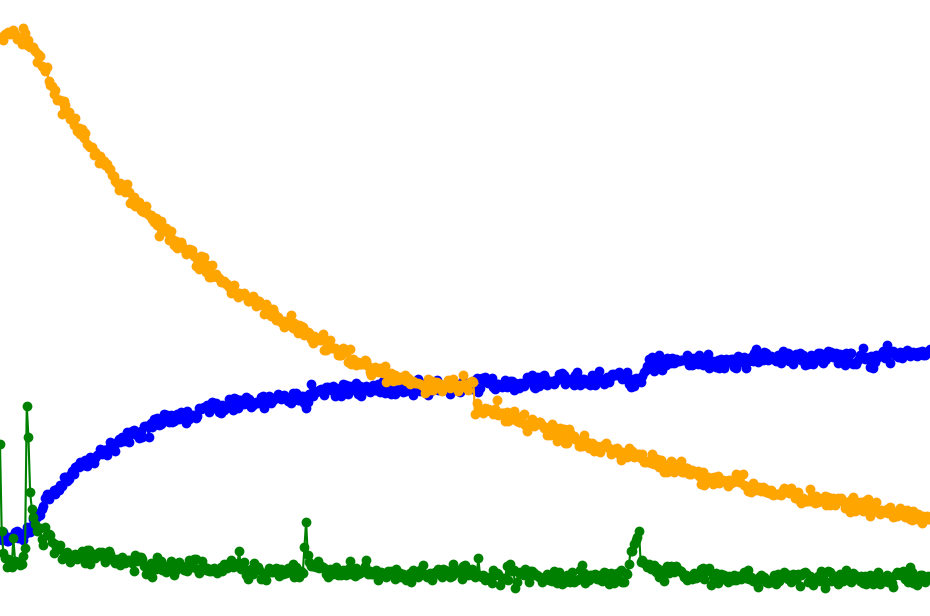CO2 Problem: (120, 0, 930, 616), (642, 0, 930, 616), (40, 0, 120, 616)
Condensation (CO2): (120, 0, 361, 616), (40, 0, 120, 616)
Low CO2: (281, 0, 930, 616), (120, 0, 361, 616), (40, 0, 120, 616)
Normal: (40, 0, 930, 616), (120, 0, 930, 616), (281, 0, 930, 616), (40, 0, 521, 616), (40, 0, 361, 616), (120, 0, 281, 616), (0, 0, 120, 616), (40, 0, 120, 616)
O2 Problem: (120, 0, 930, 616)
